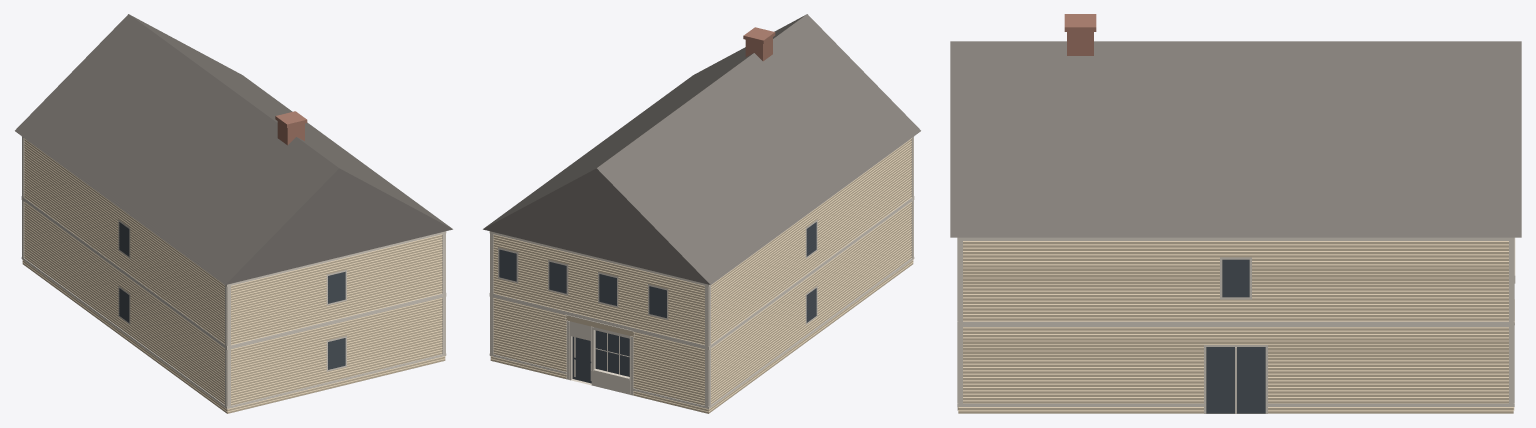
The model's file is recon_1835_blk_south_water_clark_c4_06__inferred_1835.glb.
The picture shows the model from 3 angles, left to right: view 1: azimuth 30°, elevation 25°; view 2: azimuth 150°, elevation 25°; view 3: azimuth 270°, elevation 25°; orthographic projection. The views are drawn at different scales.
Parts seen in each view (by area): view 1: recon_1835_blk_south_water_clark_c4_06__inferred_1835; view 2: recon_1835_blk_south_water_clark_c4_06__inferred_1835; view 3: recon_1835_blk_south_water_clark_c4_06__inferred_1835.
Part boxes in pixels (x1,y1,x2,y2): recon_1835_blk_south_water_clark_c4_06__inferred_1835: [15, 14, 452, 413]; recon_1835_blk_south_water_clark_c4_06__inferred_1835: [483, 14, 920, 413]; recon_1835_blk_south_water_clark_c4_06__inferred_1835: [950, 14, 1521, 413].
Bounding box in the file's own units: 11.13 × 11.02 × 17.79.
